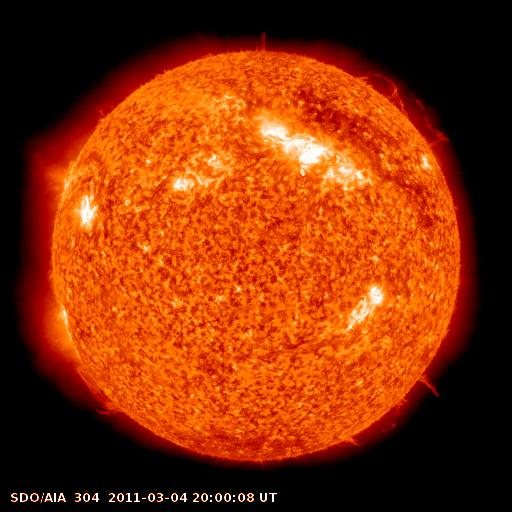prominence: (351, 60, 459, 154), (334, 396, 411, 462), (65, 360, 136, 427), (408, 362, 448, 408), (244, 24, 287, 62)
